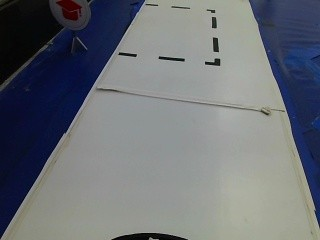school: (50, 0, 91, 54)
